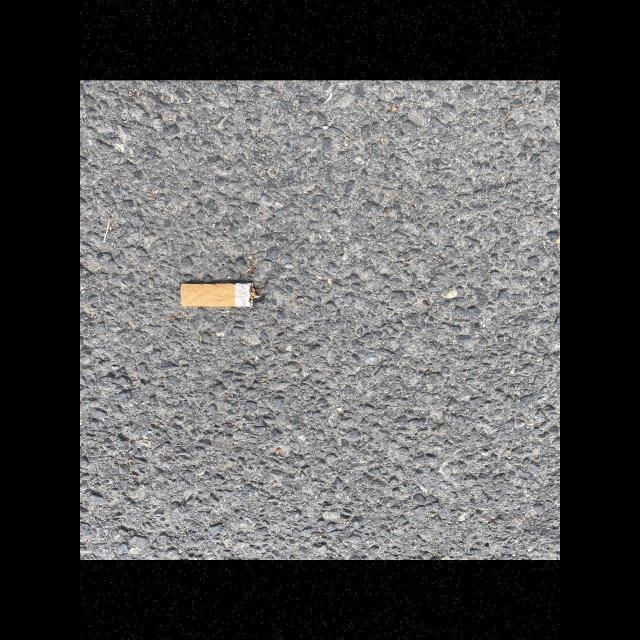cigarette: (181, 282, 253, 306)
